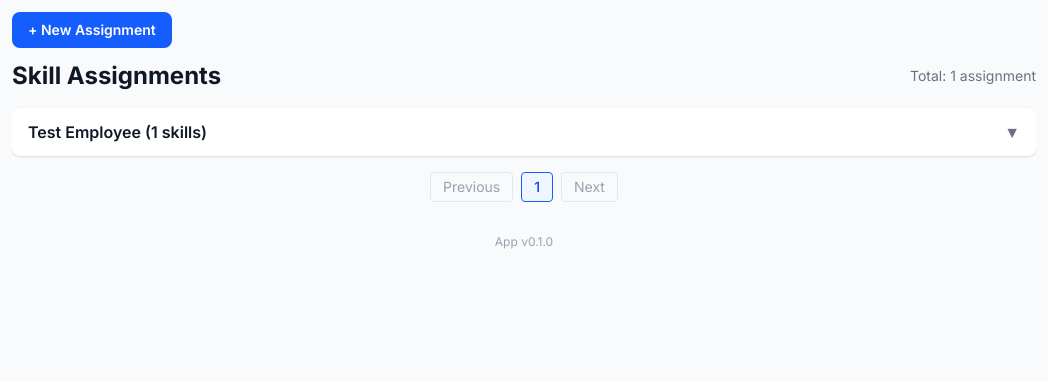
Scenario: DashboardPage › View Details button is always visible on every row
Click the button "Test Employee (1 skills) ▼".
click(84, 132)  # box [12, 108, 1036, 156]
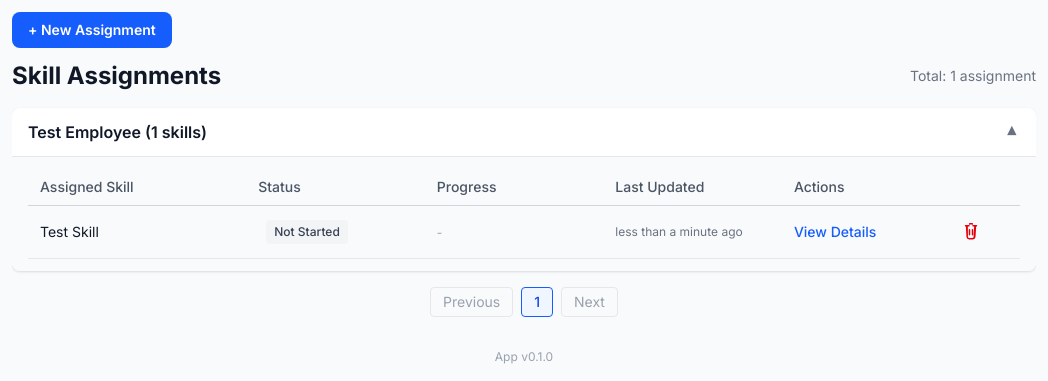
Expected: the button "View Details" is shown, [794, 222, 876, 242]
